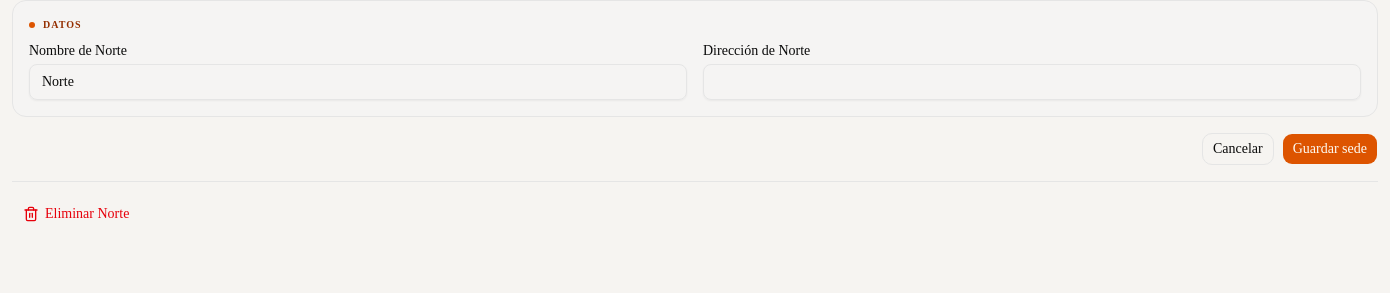
EditarSedeForm — eliminar › shows the refusal reason
Click the button "Eliminar Norte" at (76, 214), box [12,198,140,230]
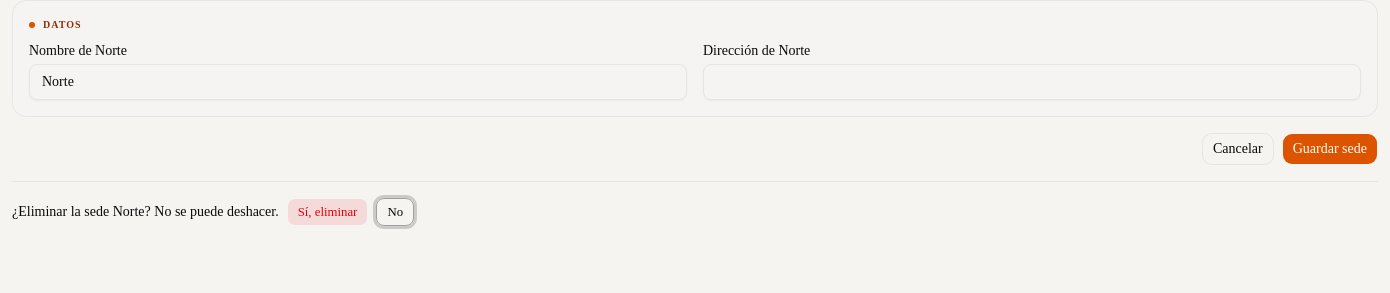
Click the button "Sí, eliminar" at (328, 212), box [287,198,368,226]
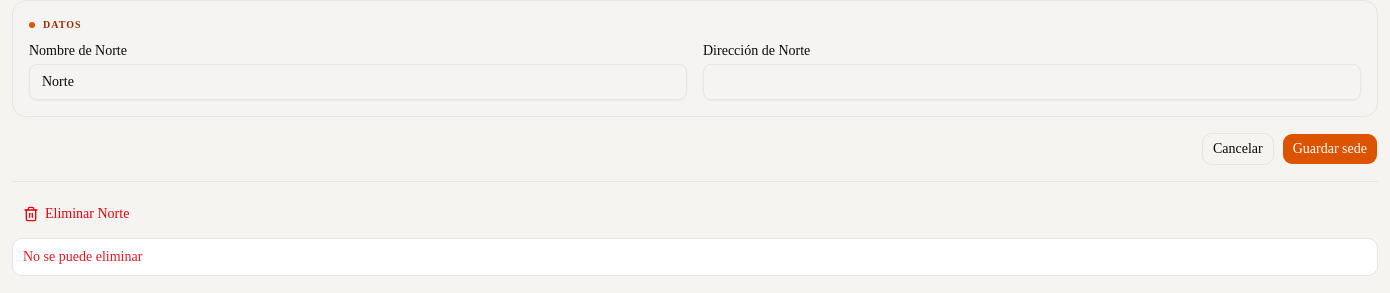
Now the message reads "No se puede eliminar", box [23,249,142,264]
